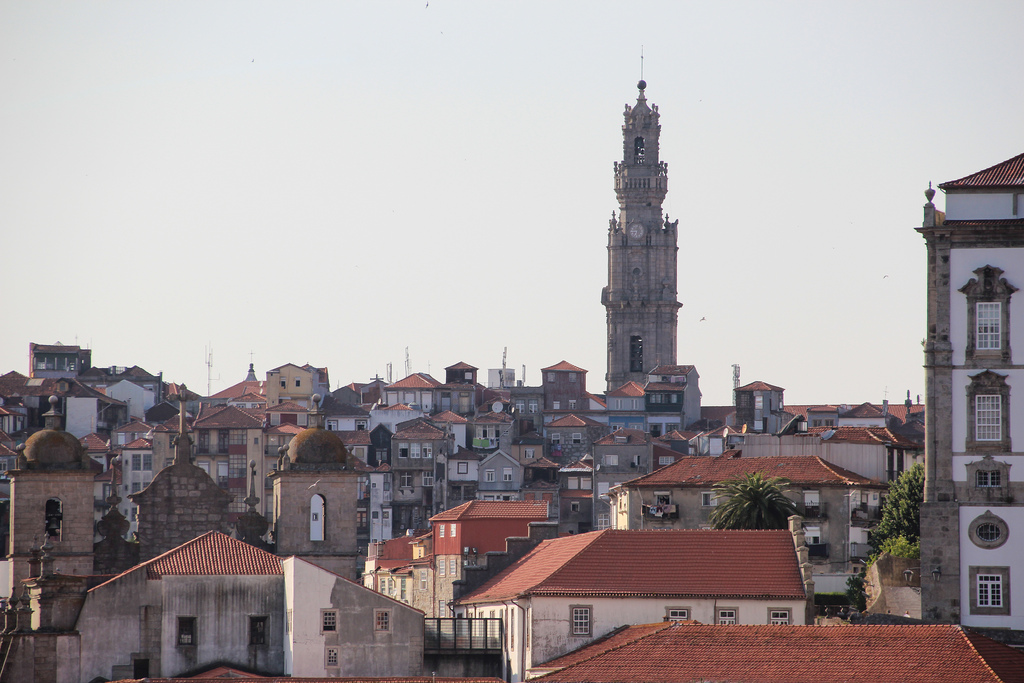clerigos: (598, 44, 684, 392)
